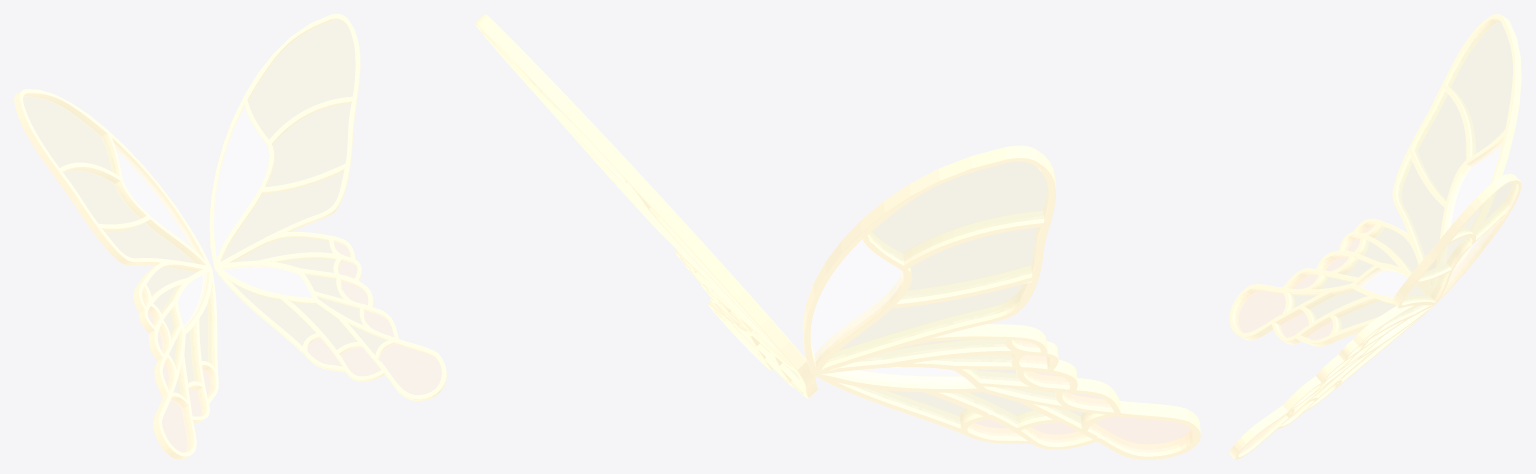
File: asset.glb
3 renders of one model, left to right at view 1: azimuth 30°, elevation 25°; view 2: azimuth 150°, elevation 25°; view 3: azimuth 270°, elevation 25°, orthographic. The views are drawn at different scales.
Parts seen in each view (by area): view 1: 寬尾鳳蝶.svg.022, 寬尾鳳蝶.svg.026, 寬尾鳳蝶.svg.027, 寬尾鳳蝶.svg.023, 寬尾鳳蝶.svg.024, 寬尾鳳蝶.svg.019, 寬尾鳳蝶.svg.025, 寬尾鳳蝶.svg.018, 寬尾鳳蝶.svg.020, 寬尾鳳蝶.svg.021; view 2: 寬尾鳳蝶.svg.026, 寬尾鳳蝶.svg.023, 寬尾鳳蝶.svg.027, 寬尾鳳蝶.svg.018, 寬尾鳳蝶.svg.025, 寬尾鳳蝶.svg.021; view 3: 寬尾鳳蝶.svg.023, 寬尾鳳蝶.svg.026, 寬尾鳳蝶.svg.027, 寬尾鳳蝶.svg.025, 寬尾鳳蝶.svg.022, 寬尾鳳蝶.svg.018, 寬尾鳳蝶.svg.021, 寬尾鳳蝶.svg.019.
Boxes of the visible parts, x1,y1,x2,y2 form: 寬尾鳳蝶.svg.022: [221, 19, 387, 354]; 寬尾鳳蝶.svg.026: [14, 89, 218, 459]; 寬尾鳳蝶.svg.027: [209, 14, 446, 400]; 寬尾鳳蝶.svg.023: [23, 94, 211, 396]; 寬尾鳳蝶.svg.024: [307, 241, 441, 394]; 寬尾鳳蝶.svg.019: [214, 106, 268, 257]; 寬尾鳳蝶.svg.025: [142, 291, 213, 452]; 寬尾鳳蝶.svg.018: [114, 143, 198, 253]; 寬尾鳳蝶.svg.020: [222, 266, 312, 297]; 寬尾鳳蝶.svg.021: [178, 273, 206, 327]; 寬尾鳳蝶.svg.026: [802, 145, 1200, 459]; 寬尾鳳蝶.svg.023: [827, 162, 1093, 423]; 寬尾鳳蝶.svg.027: [475, 14, 818, 398]; 寬尾鳳蝶.svg.018: [810, 240, 902, 361]; 寬尾鳳蝶.svg.025: [968, 340, 1192, 452]; 寬尾鳳蝶.svg.021: [836, 367, 971, 384]; 寬尾鳳蝶.svg.023: [1290, 19, 1512, 330]; 寬尾鳳蝶.svg.026: [1229, 14, 1521, 346]; 寬尾鳳蝶.svg.027: [1229, 173, 1521, 459]; 寬尾鳳蝶.svg.025: [1235, 224, 1374, 339]; 寬尾鳳蝶.svg.022: [1316, 183, 1516, 395]; 寬尾鳳蝶.svg.018: [1444, 141, 1502, 263]; 寬尾鳳蝶.svg.021: [1358, 269, 1424, 297]; 寬尾鳳蝶.svg.019: [1447, 219, 1500, 285].
Size of the model in its own units: 1.03 by 0.836 by 0.734.
